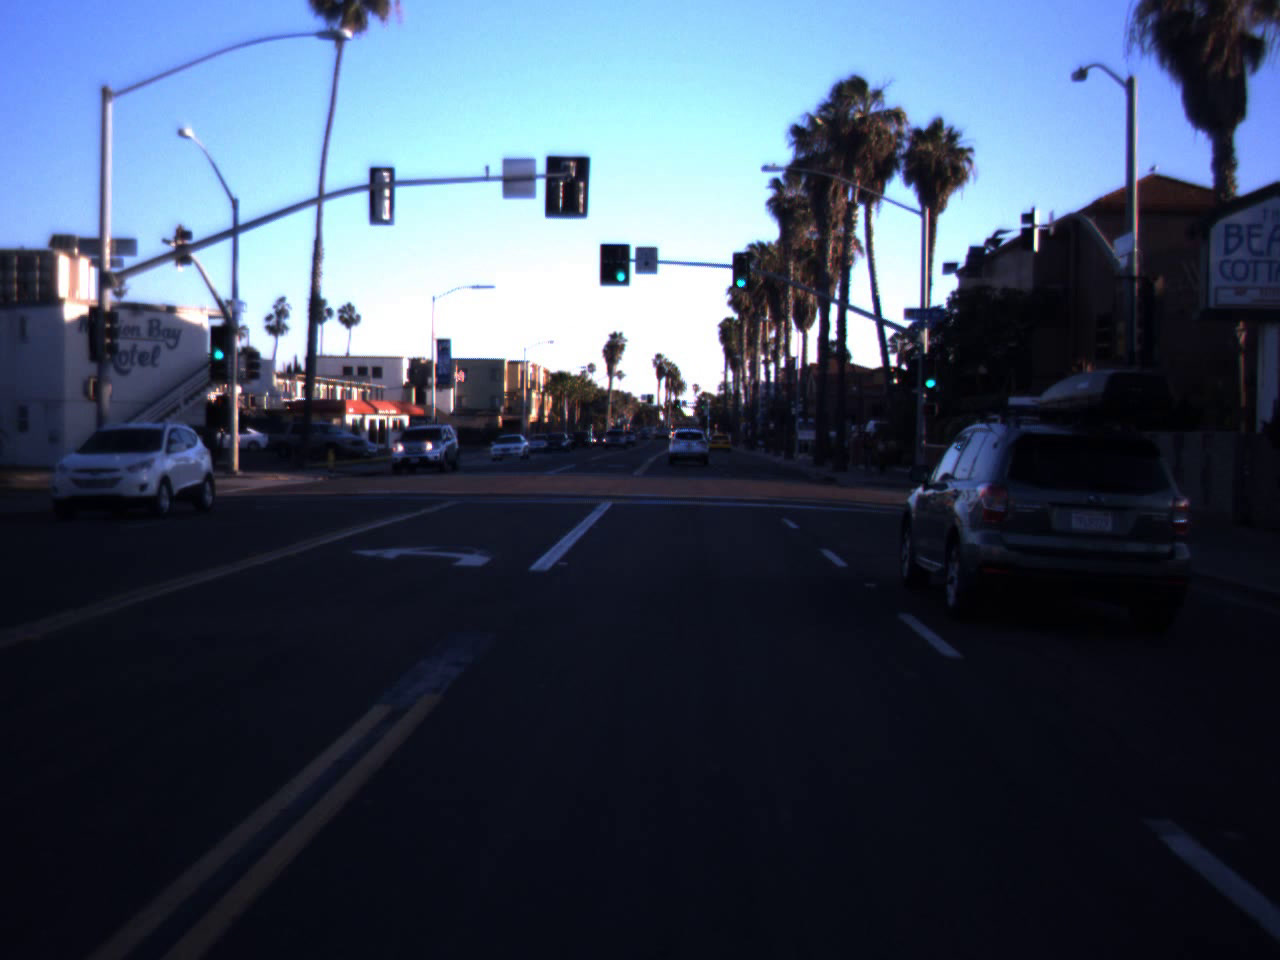go: (207, 323, 231, 363), (918, 355, 942, 390), (612, 245, 630, 285), (731, 259, 752, 289)
